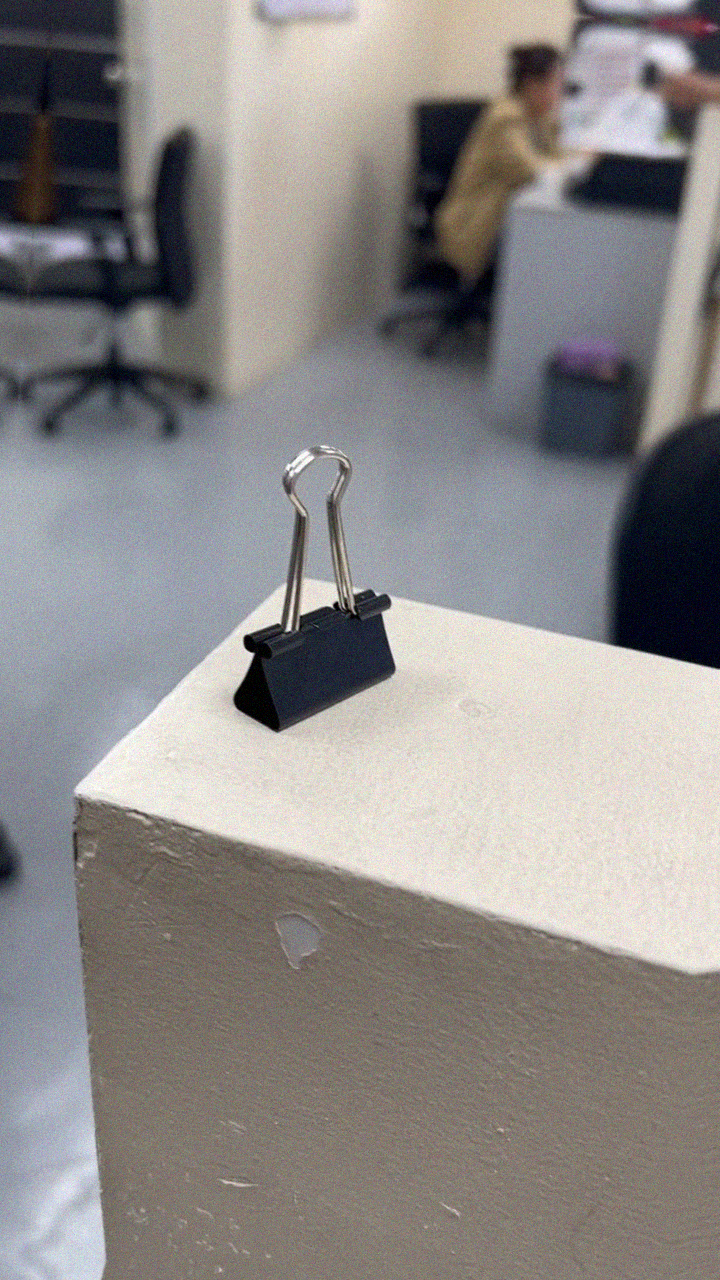kep_giay: (225, 436, 418, 746)
